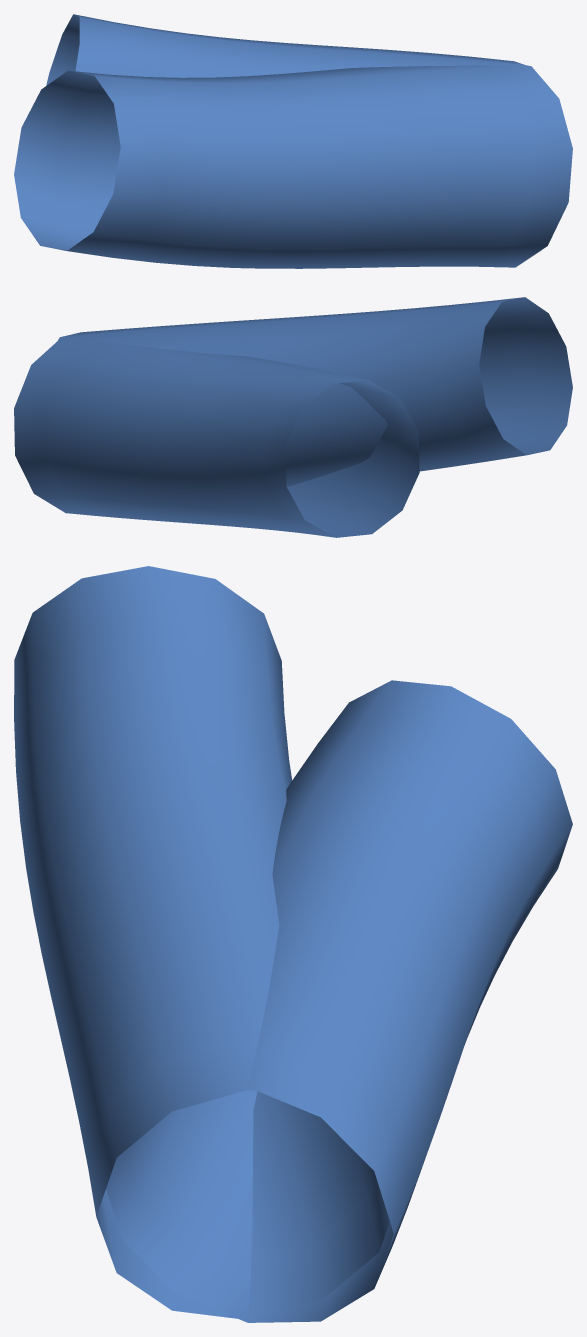
The picture shows the model from 3 angles, top to bottom: view 1: azimuth 30°, elevation 25°; view 2: azimuth 150°, elevation 25°; view 3: azimuth 270°, elevation 25°; orthographic projection. The views are drawn at different scales.
Parts seen in each view (by area): view 1: 右肺下静脉; view 2: 右肺下静脉; view 3: 右肺下静脉.
Boxes of the visible parts, x1,y1,x2,y2 form: 右肺下静脉: [14, 14, 572, 268]; 右肺下静脉: [14, 297, 572, 537]; 右肺下静脉: [14, 566, 572, 1322].
Size of the model in its own units: 0.0347 by 0.0194 by 0.0216.
